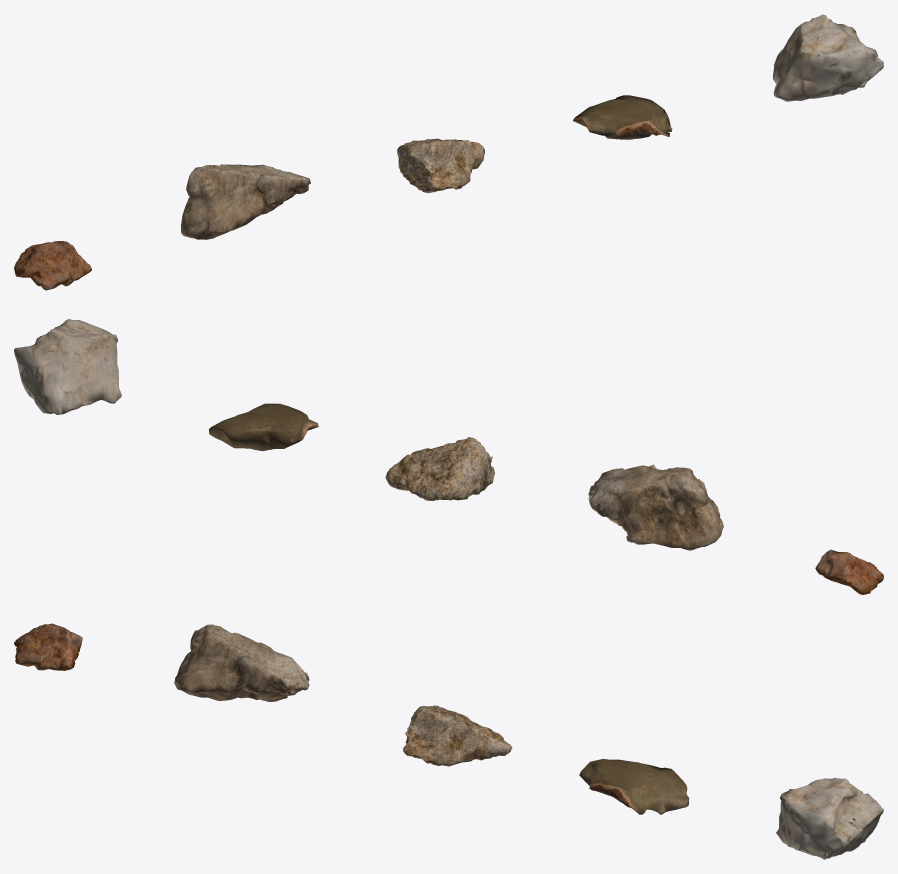
The model's file is namaqualand_stones_01.glb.
3 renders of one model, top to bottom at view 1: azimuth 30°, elevation 25°; view 2: azimuth 150°, elevation 25°; view 3: azimuth 330°, elevation 25°, orthographic.
Visible parts, largest first — view 1: namaqualand_stones_01_a; view 2: namaqualand_stones_01_a; view 3: namaqualand_stones_01_a.
Part boxes in pixels (box(x1,y1,x2,y2)): namaqualand_stones_01_a: box(14, 14, 883, 290); namaqualand_stones_01_a: box(14, 319, 883, 594); namaqualand_stones_01_a: box(14, 623, 883, 859).
Size of the model in its own units: 1.02 by 0.084 by 0.1119.
1 material, 1 textured.
